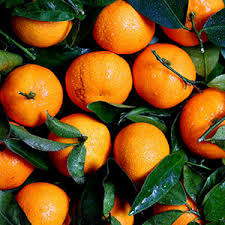orange: (64, 47, 132, 109), (48, 113, 112, 176), (133, 44, 196, 108), (2, 62, 63, 124), (112, 122, 172, 184), (86, 1, 157, 51), (178, 89, 225, 159), (10, 1, 75, 50), (14, 182, 72, 225)
